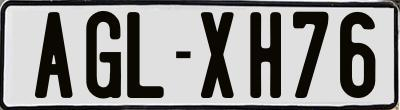6: (339, 9, 379, 97)
7: (291, 10, 327, 97)
A: (35, 10, 78, 102)
G: (83, 9, 123, 101)
H: (249, 9, 280, 98)
L: (124, 11, 166, 101)
X: (200, 11, 235, 97)
